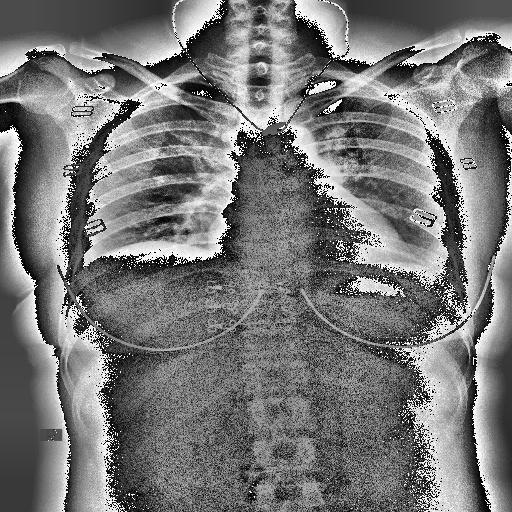3- Cardiomegaly: (205, 205, 402, 263), (200, 224, 414, 268), (206, 222, 410, 268)
